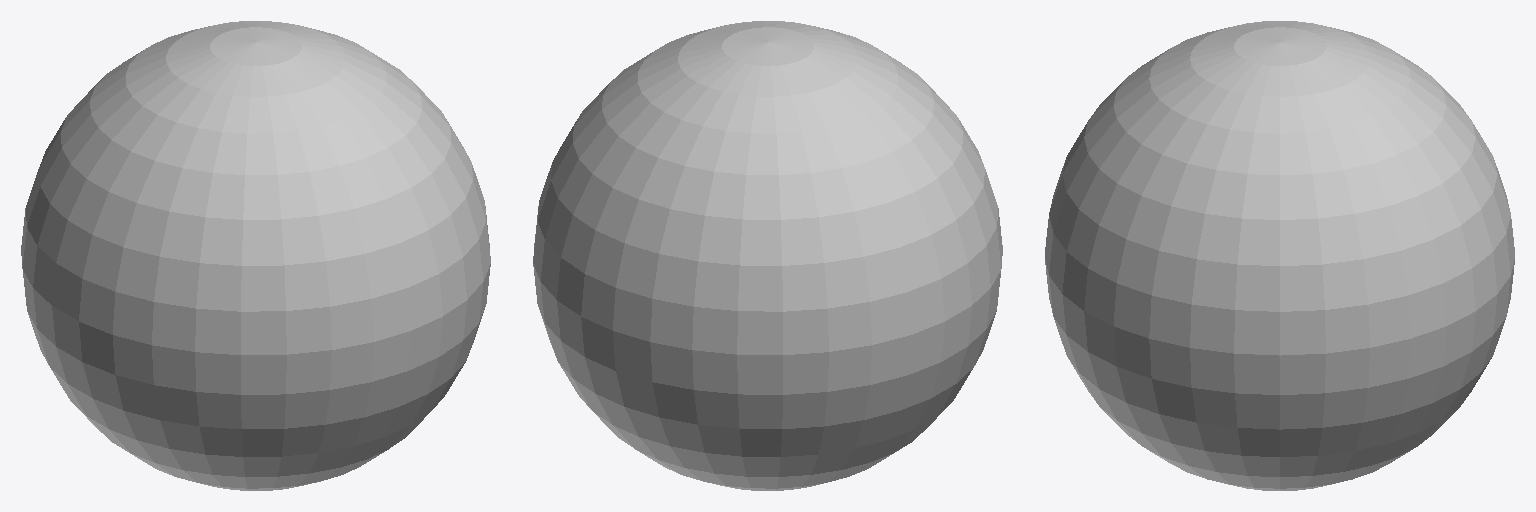
Rendered from transmission_sphere.obj.
3 renders of one model, left to right at view 1: azimuth 30°, elevation 25°; view 2: azimuth 150°, elevation 25°; view 3: azimuth 270°, elevation 25°, orthographic.
Visible parts, largest first — view 1: Sphere; view 2: Sphere; view 3: Sphere.
Boxes of the visible parts, <box> form: Sphere: <box>21,21,490,490</box>; Sphere: <box>533,21,1002,490</box>; Sphere: <box>1045,21,1514,490</box>.
Bounding box in the file's own units: 1.96 × 1.96 × 1.96.